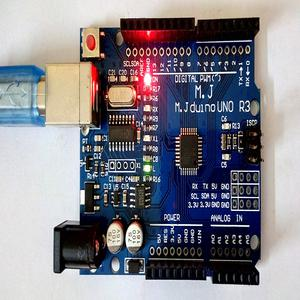duino: (39, 8, 266, 286)
